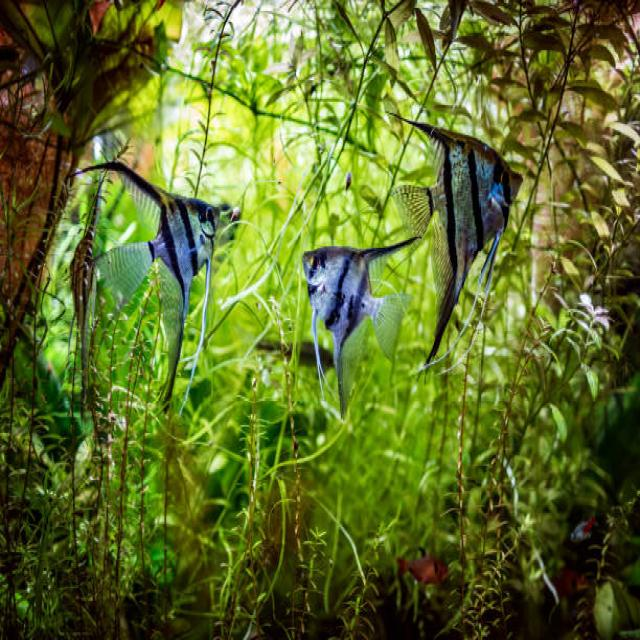AngelFish: (68, 150, 220, 415), (395, 110, 524, 376), (297, 233, 422, 408)
